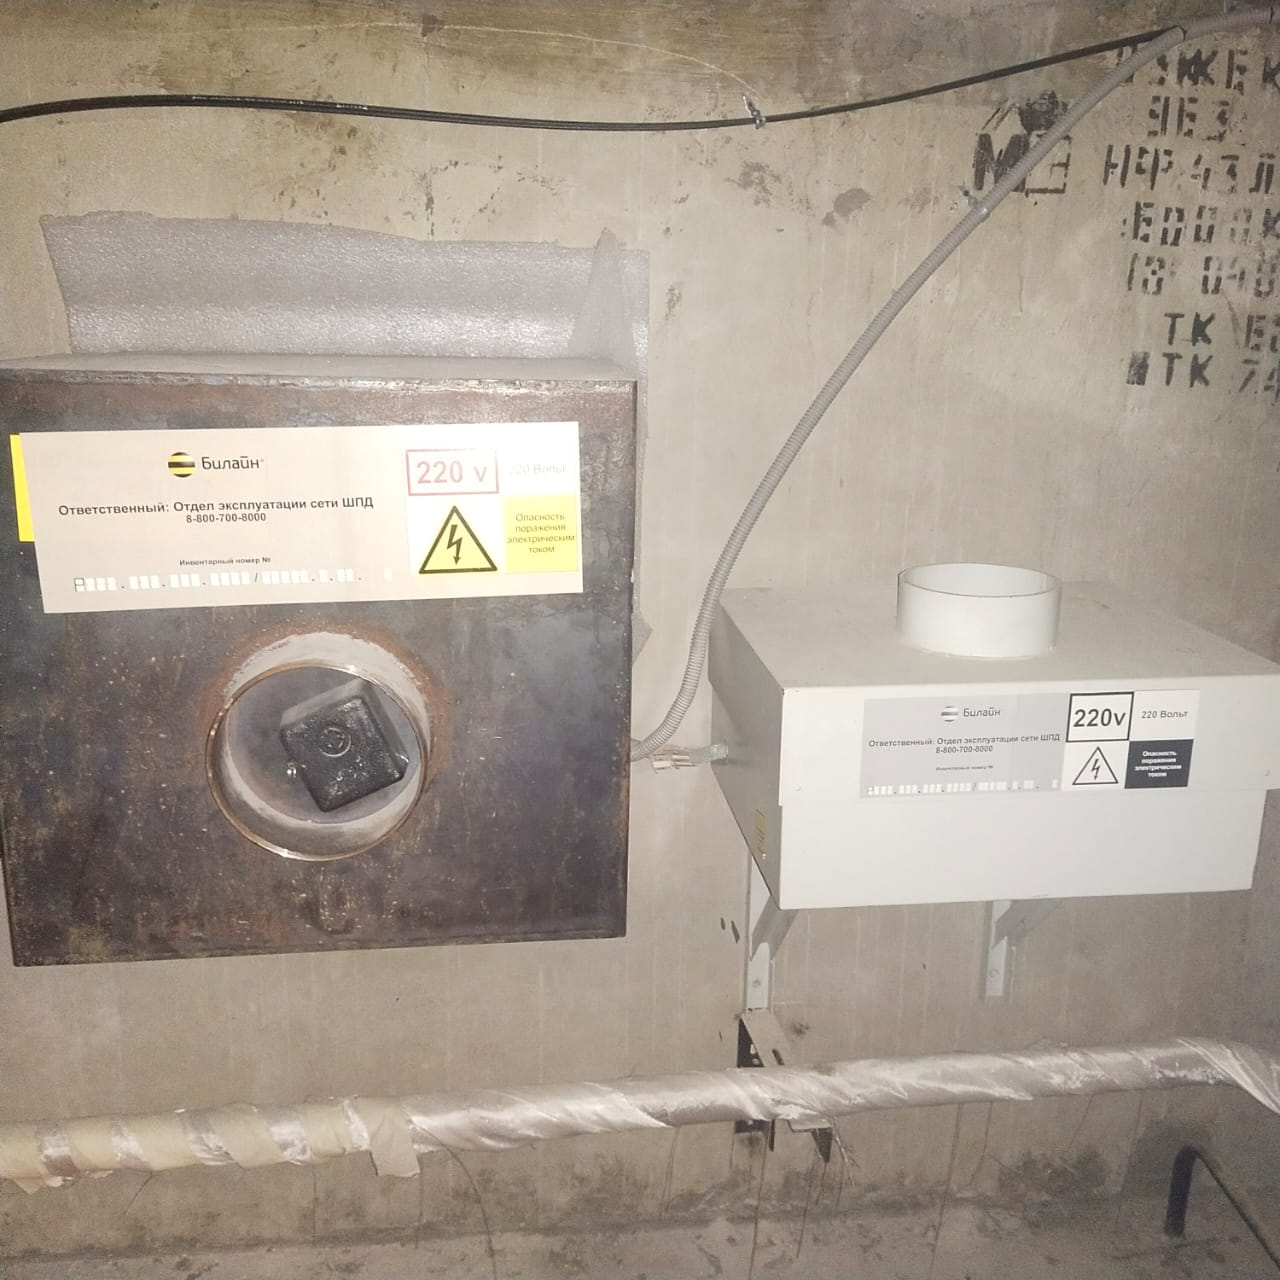shta-9: (0, 338, 635, 966)
shta-ps: (695, 551, 1274, 925)
